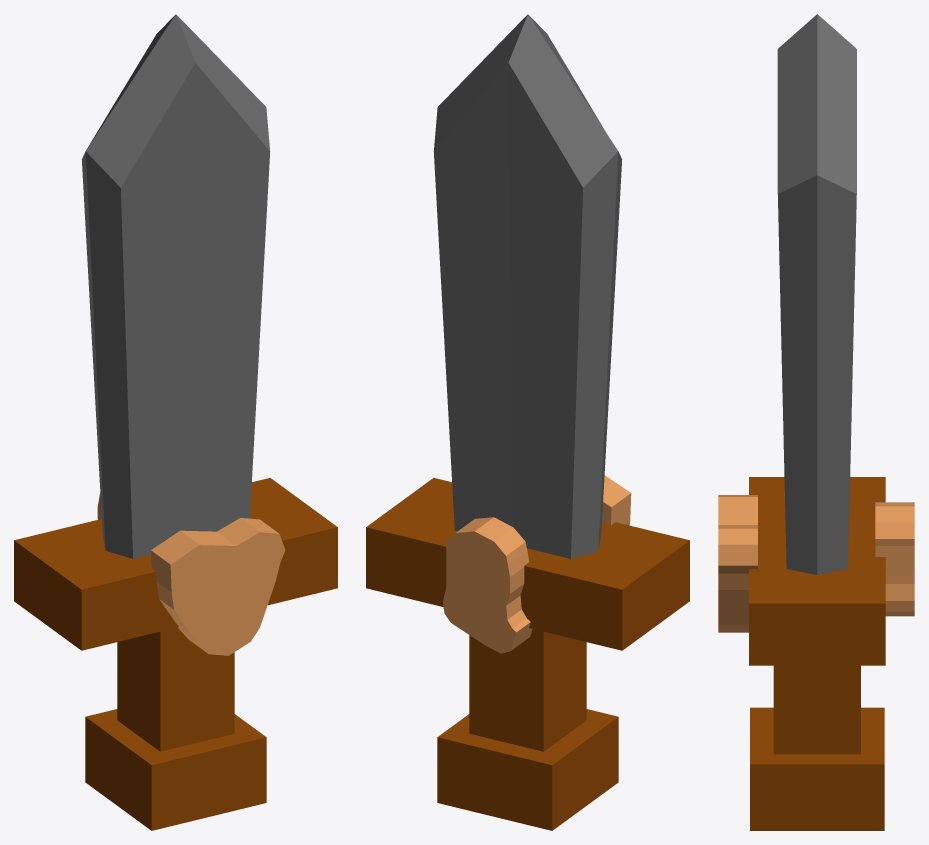
The model's file is chicken_sword.fbx.
3 renders of one model, left to right at view 1: azimuth 30°, elevation 25°; view 2: azimuth 150°, elevation 25°; view 3: azimuth 270°, elevation 25°, orthographic.
Parts seen in each view (by area): view 1: Cube.001; view 2: Cube.001; view 3: Cube.001.
Part boxes in pixels (<box>): Cube.001: <box>14,14,337,830</box>; Cube.001: <box>366,14,689,830</box>; Cube.001: <box>718,14,914,830</box>.
Size of the model in its own units: 161 by 468 by 106.
